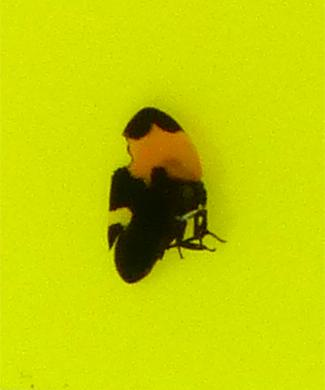Hemiptera: (100, 100, 225, 290)
